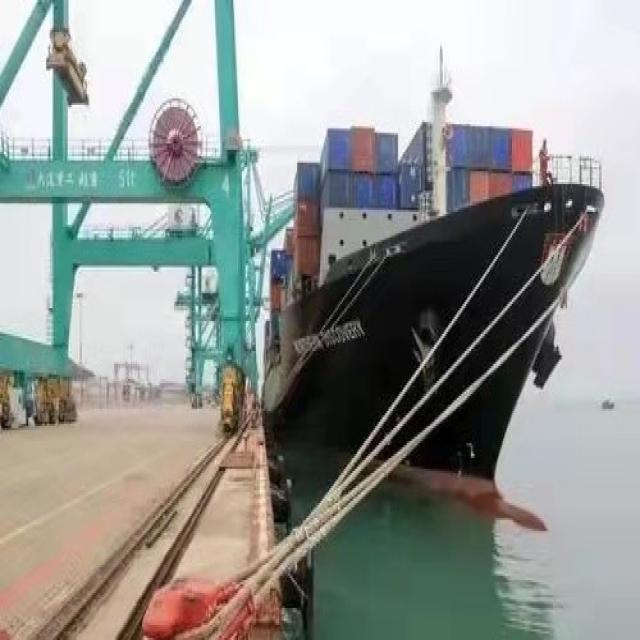cargoship: (259, 100, 601, 530)
